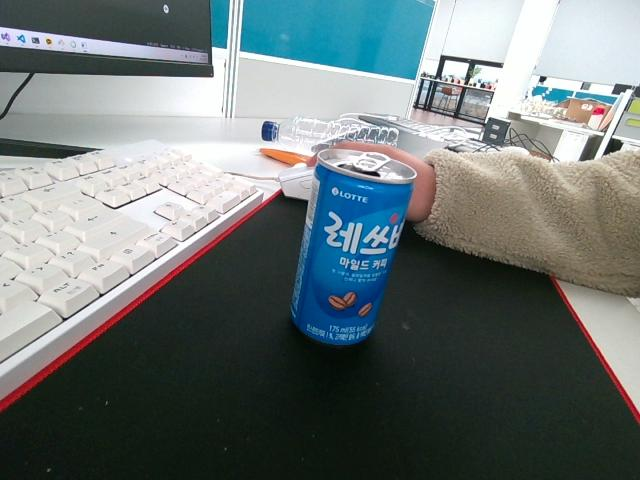letsbe: (289, 147, 417, 347)
